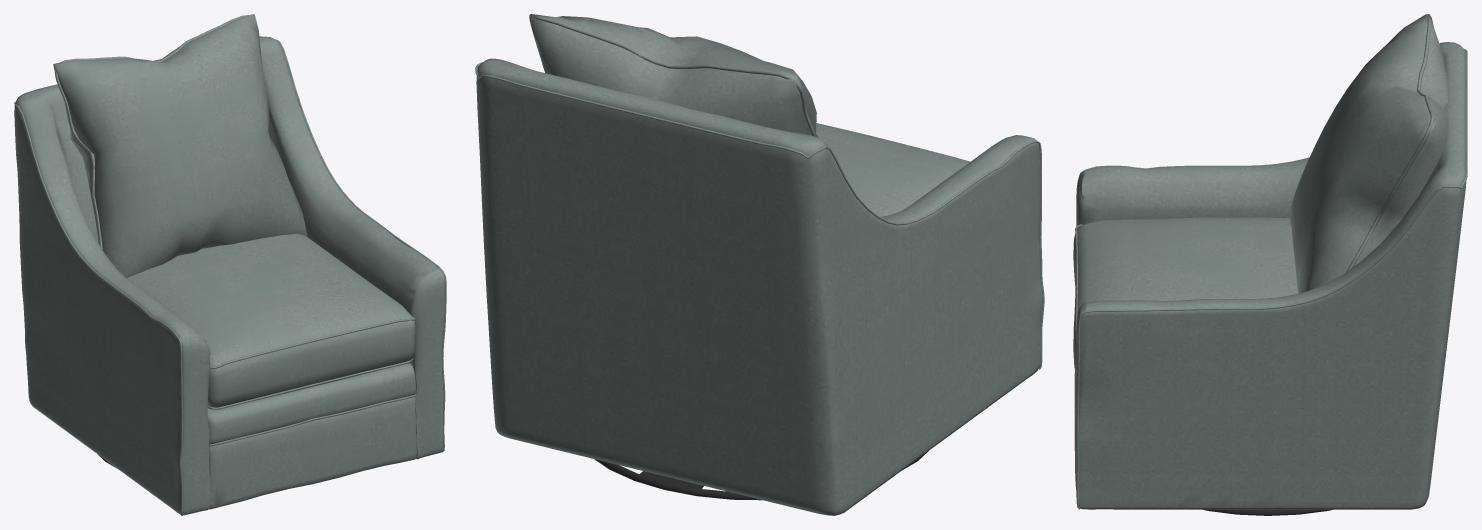
File: B075X33RZK.glb
The picture shows the model from 3 angles, left to right: view 1: azimuth 30°, elevation 25°; view 2: azimuth 150°, elevation 25°; view 3: azimuth 270°, elevation 25°; orthographic projection. The views are drawn at different scales.
Parts seen in each view (by area): view 1: RootNode; view 2: RootNode; view 3: RootNode.
Boxes of the visible parts, box(x1,y1,x2,y2) form: RootNode: box(14, 14, 446, 515); RootNode: box(475, 14, 1044, 515); RootNode: box(1073, 14, 1467, 515).
Bounding box in the file's own units: 0.7601 × 0.9256 × 0.8697.
Materials: 1 (1 with a texture image).
